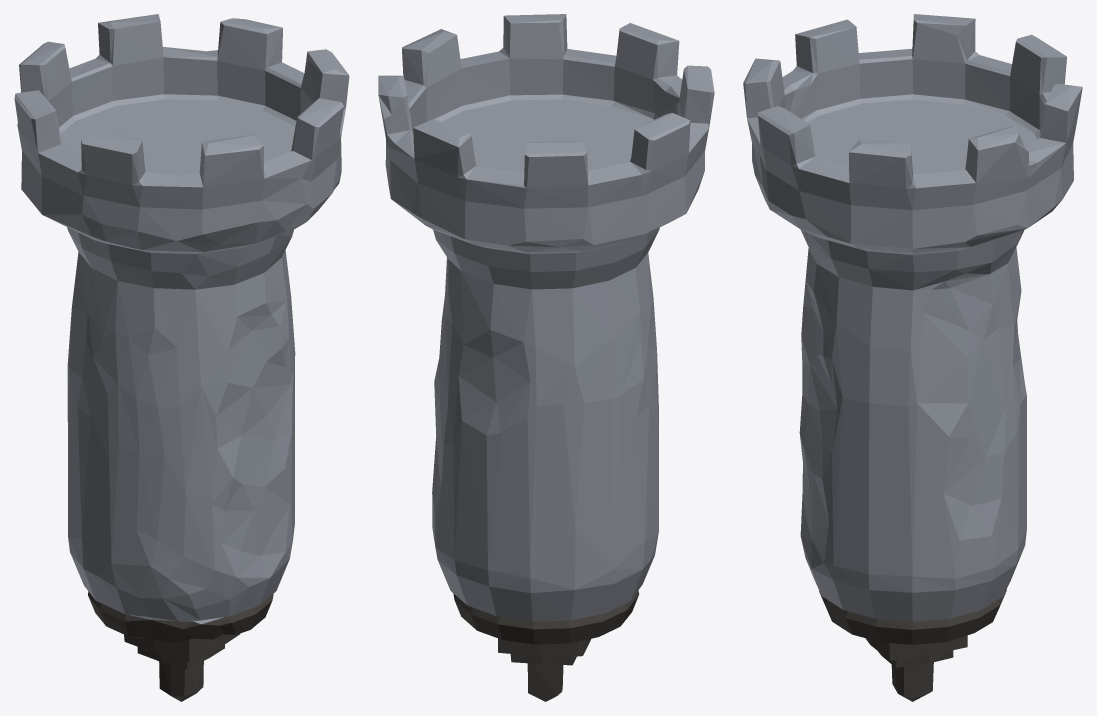
Rendered from SM_tower_round_07.fbx.
3 views of the same model, side by side, from view 1: azimuth 30°, elevation 25°; view 2: azimuth 150°, elevation 25°; view 3: azimuth 270°, elevation 25° (orthographic).
Visible parts, largest first — view 1: tower_round_07; view 2: tower_round_07; view 3: tower_round_07.
Boxes of the visible parts, x1,y1,x2,y2 form: tower_round_07: (14,14,349,701); tower_round_07: (378,14,714,701); tower_round_07: (743,14,1082,701).
Bounding box in the file's own units: 449 × 907 × 450.
